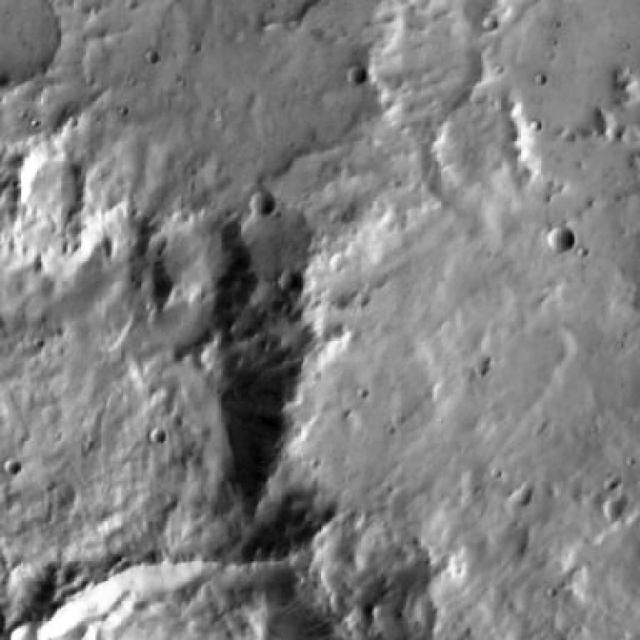crater: (478, 0, 640, 200), (298, 511, 413, 623), (18, 150, 90, 218), (250, 190, 278, 216), (548, 226, 574, 252), (606, 498, 628, 520), (282, 270, 303, 290), (0, 624, 21, 640), (348, 69, 364, 85)
